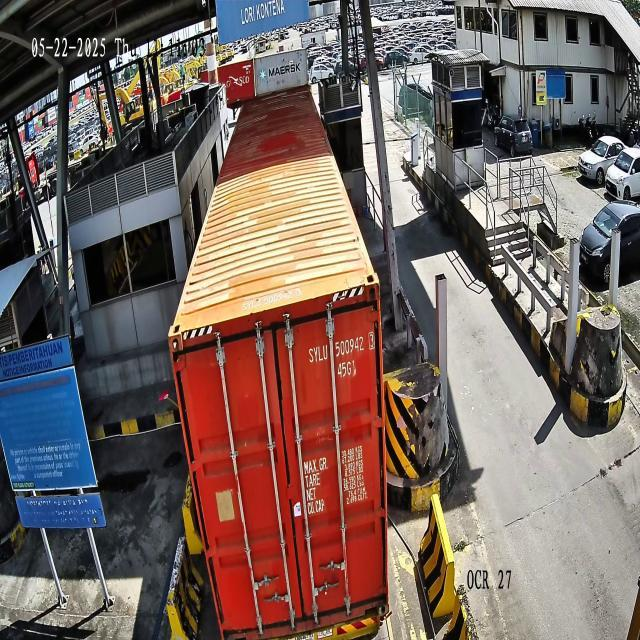ISO: (336, 360, 356, 380)
container_number: (308, 331, 376, 364)
